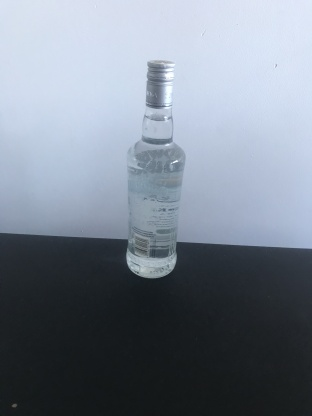nakretka: (144, 57, 176, 110)
